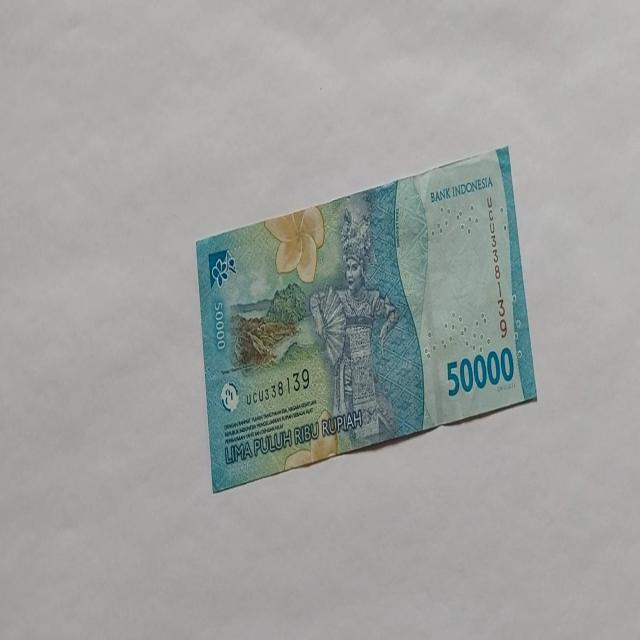lima puluh ribu rupiah: (195, 143, 538, 493), (445, 346, 515, 398), (428, 174, 494, 204)
